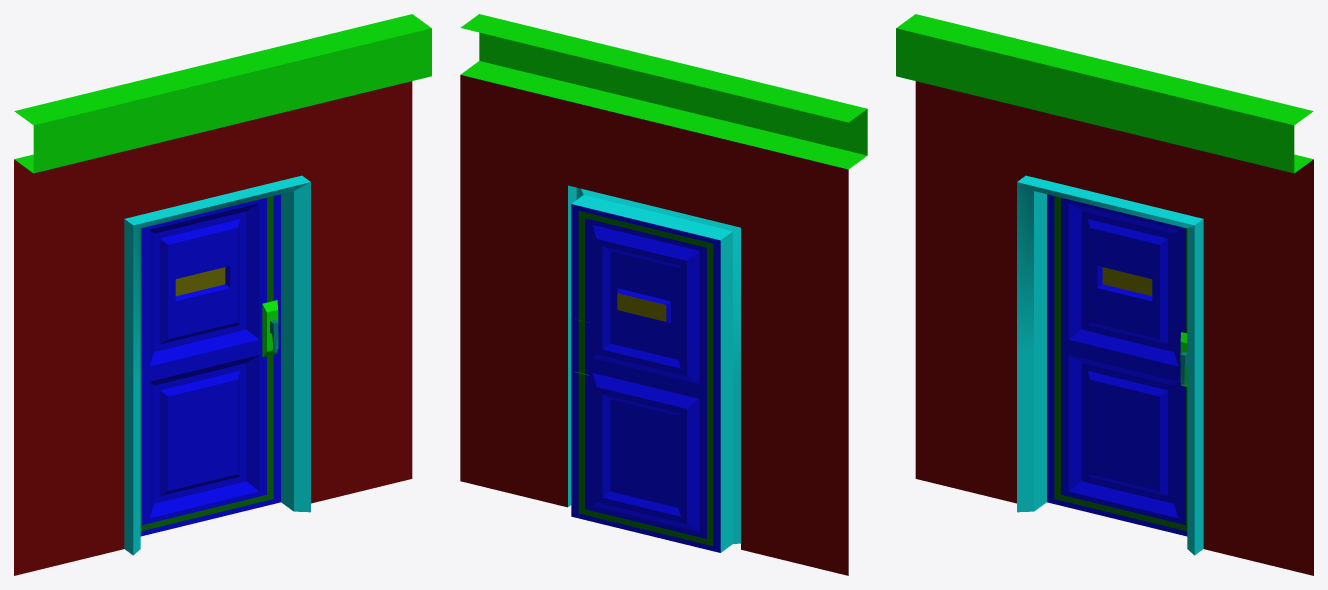
Rendered from Wall_Door.fbx.
The picture shows the model from 3 angles, left to right: view 1: azimuth 30°, elevation 25°; view 2: azimuth 150°, elevation 25°; view 3: azimuth 330°, elevation 25°; orthographic projection. The views are drawn at different scales.
Visible parts, largest first — view 1: Build_2_Door; view 2: Build_2_Door; view 3: Build_2_Door.
Part boxes in pixels (bbox=[...]): Build_2_Door: bbox=[14, 14, 431, 575]; Build_2_Door: bbox=[460, 14, 867, 575]; Build_2_Door: bbox=[896, 14, 1313, 575].
Bounding box in the file's own units: 260 × 36.72 × 290.
